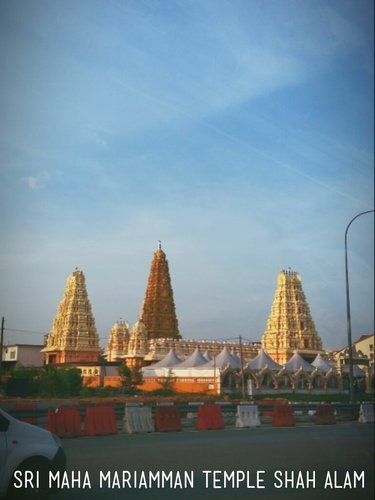Hindu Temple: (34, 239, 330, 374)
